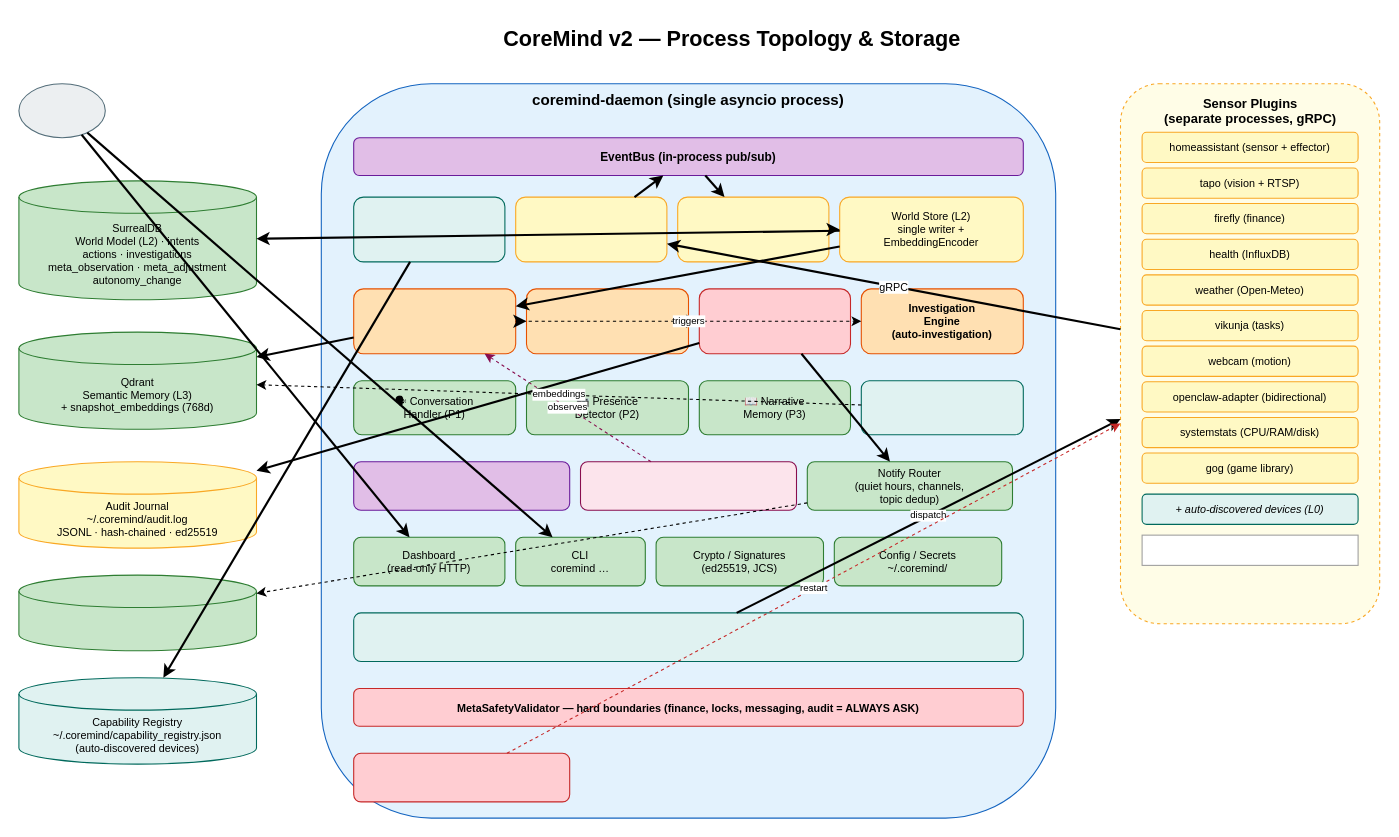
Some shapes in this 1399 by 837 pixel diagram are drawn without their labels. Each missing label, with the centre of its shape:
Embedding Encoder (Ollama nomic-768d): the point at 941,407
L0 Discovery Engine (mDNS, HA, UPnP): the point at 429,229
L1 Ingest (verify sig → bus): the point at 753,229
L4 Reasoning (LiteLLM wrapper) compressed prompts: the point at 434,321
L5 Intention (self-prompting) unified routing: the point at 606,321
L6 Action Executor + Autonomy Slider: the point at 774,321
L7 Reflection (daily + graduation proposals): the point at 461,485
L8 Meta-Loop (observe → evaluate → tune): the point at 687,485
Notification Journal (topic dedup · cooldowns): the point at 137,612
Plugin Host (gRPC server, Unix socket): the point at 591,229
Unified Actuator Surface act(goal, confidence) → resolve → dispatch to plugins: the point at 688,637
User: the point at 61,110
🐕 Watchdog (restarts dead plugins, 60s): the point at 461,777
🔄 Each: auto-reconnect + retry: the point at 1249,549
